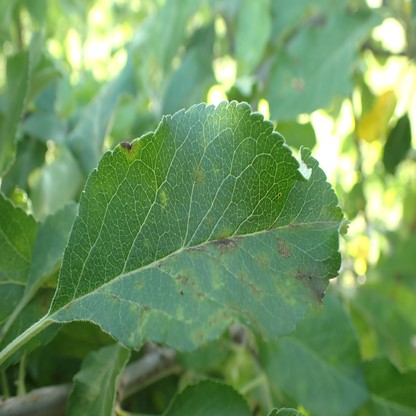scab: (287, 269, 325, 312), (235, 305, 267, 339), (175, 267, 204, 303), (211, 228, 241, 255), (273, 274, 295, 307), (237, 272, 263, 299), (206, 305, 234, 326), (157, 253, 178, 275), (210, 257, 224, 289), (121, 140, 140, 160), (187, 243, 210, 259), (137, 305, 149, 333), (277, 237, 293, 257), (189, 329, 204, 346), (255, 251, 269, 269), (105, 285, 116, 305), (194, 166, 204, 185), (287, 220, 301, 233), (176, 305, 185, 323), (64, 300, 74, 315), (134, 280, 144, 292), (161, 190, 168, 207), (266, 223, 276, 232), (41, 295, 47, 307), (129, 304, 137, 312), (205, 216, 213, 223), (202, 140, 208, 149)
